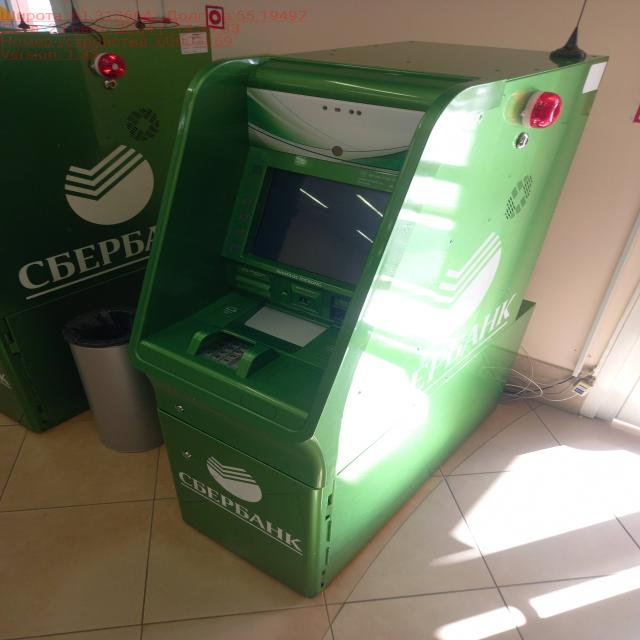bank: (139, 41, 607, 598), (0, 23, 213, 435)
